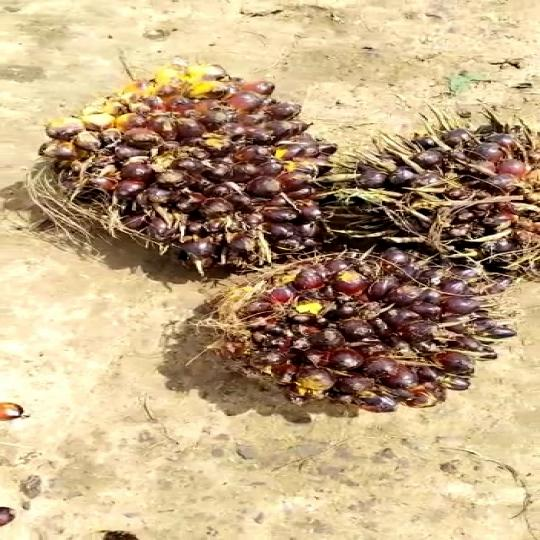kurang masak: (26, 68, 308, 270), (234, 256, 480, 434), (326, 120, 540, 285)
